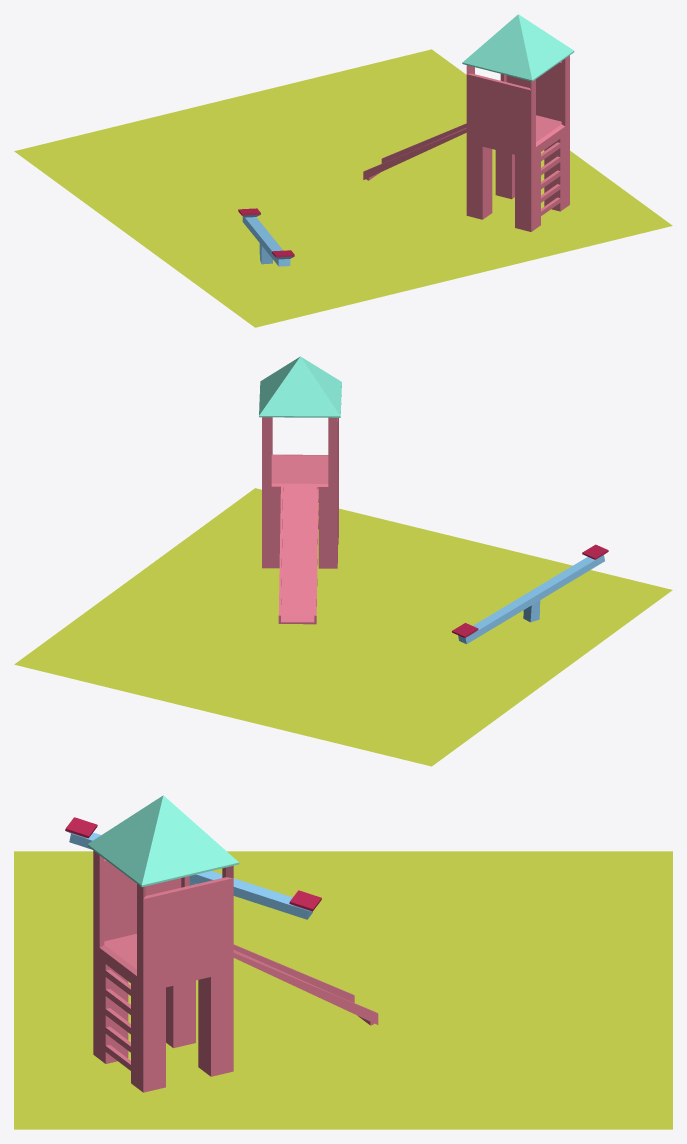
File: playground.gltf
3 renders of one model, top to bottom at view 1: azimuth 30°, elevation 25°; view 2: azimuth 150°, elevation 25°; view 3: azimuth 270°, elevation 25°, orthographic. The views are drawn at different scales.
Visible parts, largest first — view 1: Plane, Cube.001, Cube.002; view 2: Plane, Cube.001, Cube.002; view 3: Plane, Cube.001, Cube.002.
Part boxes in pixels (box(x1,y1,x2,y2)): Plane: box(14, 49, 672, 327); Cube.001: box(363, 14, 574, 231); Cube.002: box(238, 208, 294, 266); Plane: box(14, 488, 672, 766); Cube.001: box(259, 356, 341, 624); Cube.002: box(452, 544, 608, 644); Plane: box(14, 851, 672, 1129); Cube.001: box(87, 795, 378, 1092); Cube.002: box(65, 817, 321, 919).
Size of the model in its own units: 23.57 by 10.62 by 23.57.
3 materials, 3 textured.
